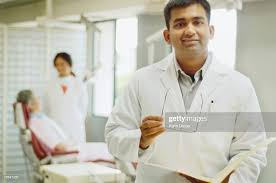Indian_Male: (170, 3, 213, 71)
